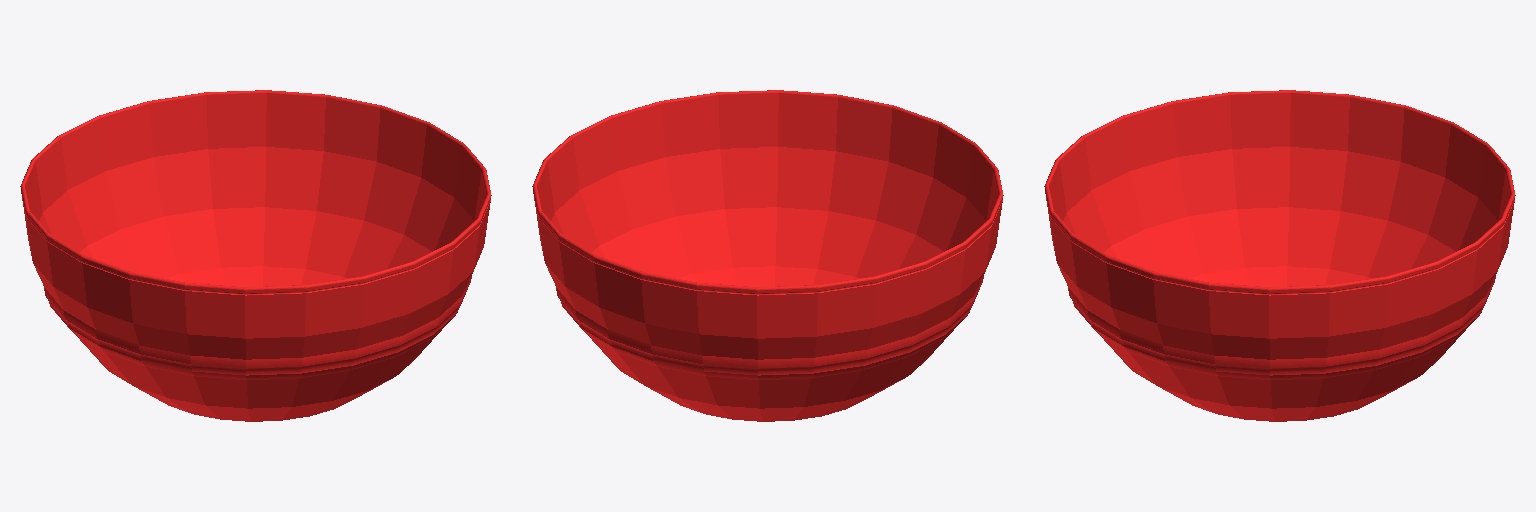
URDF robot description (bowl):
<?xml version="0.0" ?>
<robot name="bowl">
    <link concave="yes" name="base_link">
        <!-- <contact>
            <lateral_friction value="3.0"/>
            <rolling_friction value="3.0"/>
            <spinning_friction value="3.0"/>
        </contact> -->
        <inertial>
            <origin xyz="0 0 0.03"/>
            <mass value="1"/>
            <inertia ixx="1" ixy="0" ixz="0" iyy="1" iyz="0" izz="1"/>
        </inertial>
        <visual>
            <origin xyz="0 0 0"/>
            <geometry>
                <mesh filename="bowl.obj" scale="0.0005 0.0005 0.0005 "/>
            </geometry>
      <material name="bowl">
        <color rgba="1 0.2 0.2 1"/>
        <specular rgb="1 1 1"/>
      </material>
        </visual>
        <collision concave="yes">
            <origin xyz="0 0 0"/>
            <geometry>
                <mesh filename="bowl.obj" scale="0.0005 0.0005 0.0005 "/>
            </geometry>
        </collision>
    </link>
</robot>

--- Facts derived from the render (not from the file) ---
Views: 3 orthographic renders of the robot side by side, from view 1: azimuth 30°, elevation 25°; view 2: azimuth 150°, elevation 25°; view 3: azimuth 270°, elevation 25°.
Robot: bowl — 1 links, 0 joints (none); root link base_link; default pose: all joints at 0.
Links seen in each view (by area): view 1: base_link; view 2: base_link; view 3: base_link.
Boxes of the visible links, left/top/right/bottom form: base_link: left=20, top=90, right=491, bottom=421; base_link: left=532, top=90, right=1003, bottom=421; base_link: left=1044, top=90, right=1515, bottom=421.
Bounding box of the posed robot: 0.1183 × 0.1183 × 0.0582 m (x, y, z).
1 mesh visuals loaded from 1 distinct referenced files (1 OBJ).